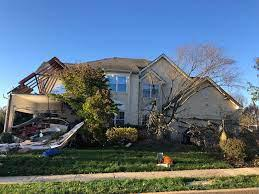major: (5, 51, 243, 142)
